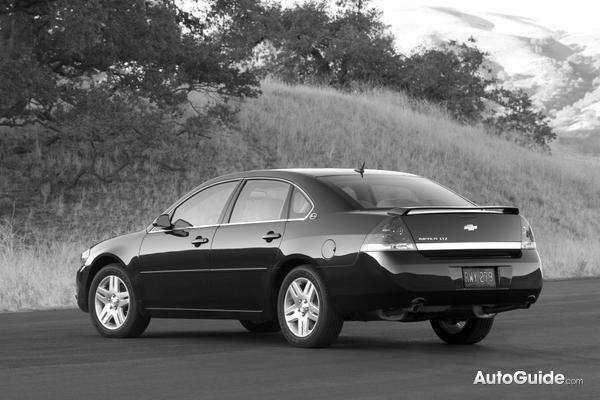car: (74, 161, 545, 352)
